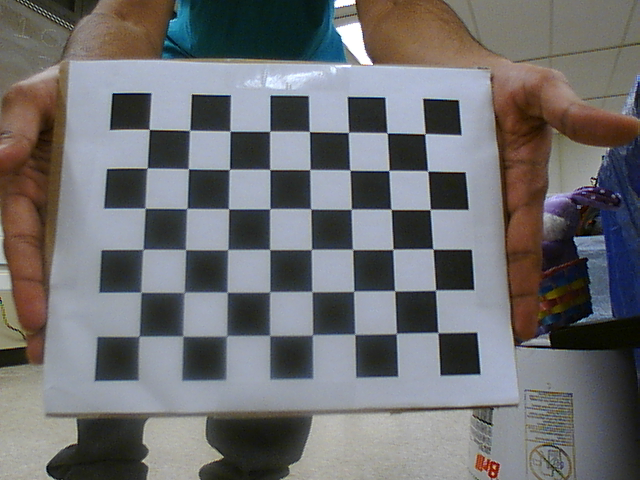bunny: (516, 181, 611, 344)
